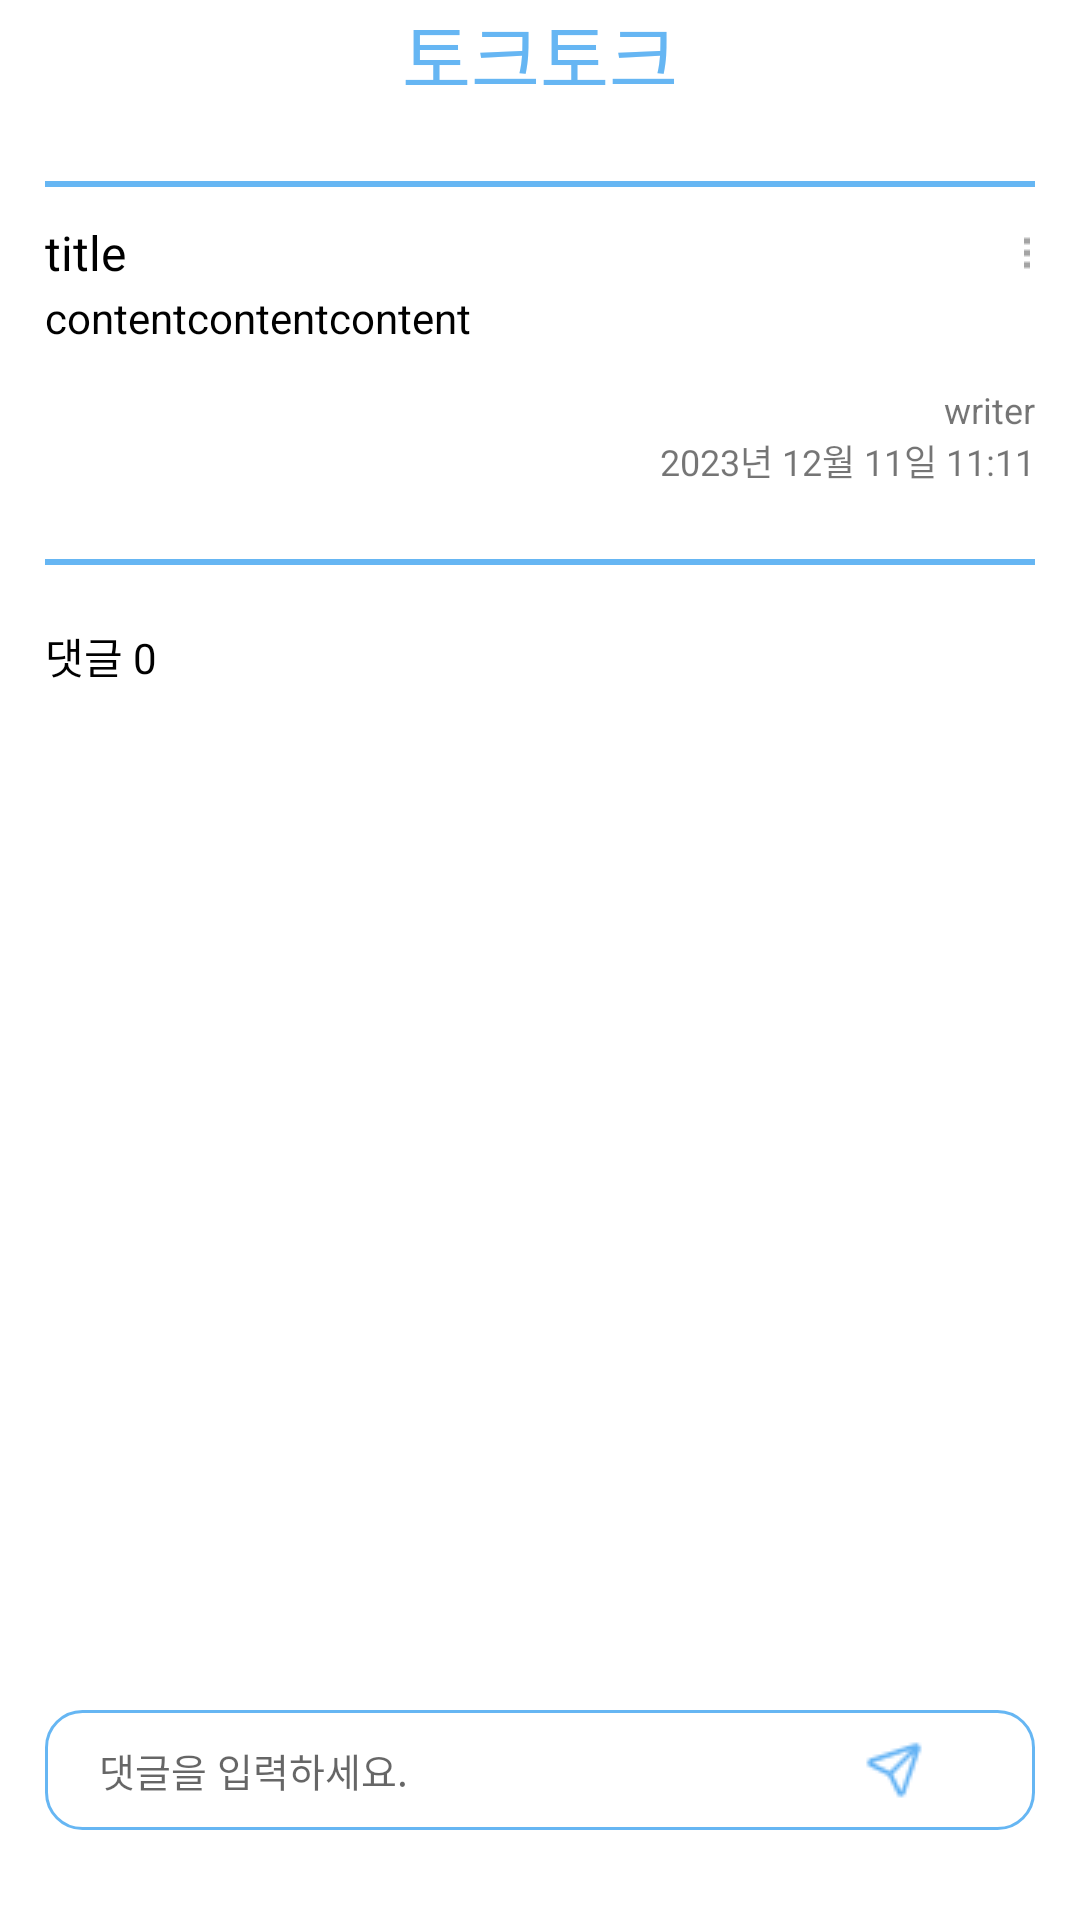

Where icons sit on this 1080px×1920px app screen, as (x1, y1, x2, y2):
send: (866, 1742, 922, 1798)
